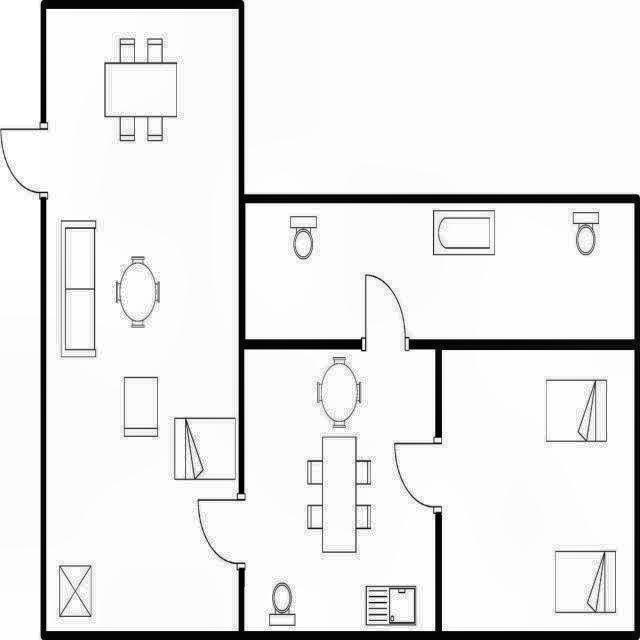room: (46, 9, 239, 631), (442, 350, 634, 631), (244, 349, 435, 631), (245, 203, 634, 339)
